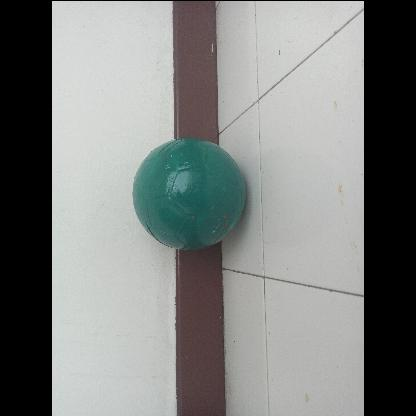green_ball: (131, 135, 247, 251)
